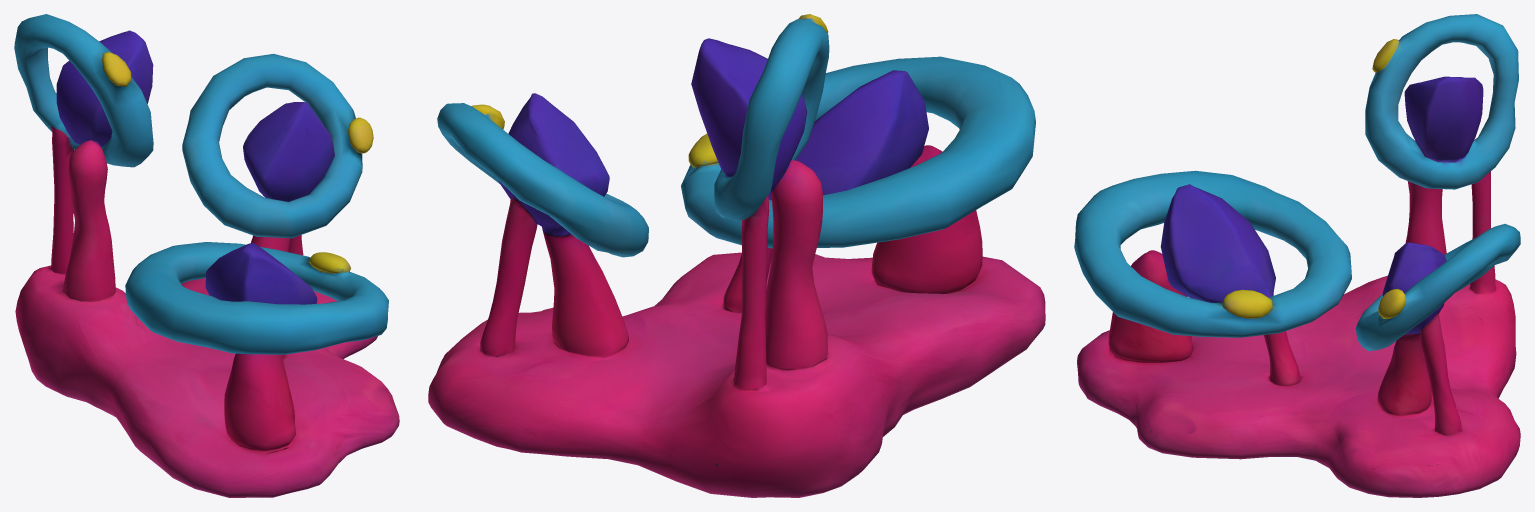
File: 111253c7-729d-41ad-9422-2cdb9ee2c69c.glb
The picture shows the model from 3 angles, left to right: view 1: azimuth 30°, elevation 25°; view 2: azimuth 150°, elevation 25°; view 3: azimuth 270°, elevation 25°; orthographic projection. The views are drawn at different scales.
Visible parts, largest first — view 1: tripo_node_b5d7ffa9-e356-45e7-b0f3-c3520fbea011; view 2: tripo_node_b5d7ffa9-e356-45e7-b0f3-c3520fbea011; view 3: tripo_node_b5d7ffa9-e356-45e7-b0f3-c3520fbea011.
Part boxes in pixels (bbox=[...]): tripo_node_b5d7ffa9-e356-45e7-b0f3-c3520fbea011: bbox=[14, 14, 399, 497]; tripo_node_b5d7ffa9-e356-45e7-b0f3-c3520fbea011: bbox=[428, 14, 1045, 497]; tripo_node_b5d7ffa9-e356-45e7-b0f3-c3520fbea011: bbox=[1074, 14, 1520, 497].
Size of the model in its own units: 0.8356 by 0.8571 by 1.
1 material, 1 textured.
